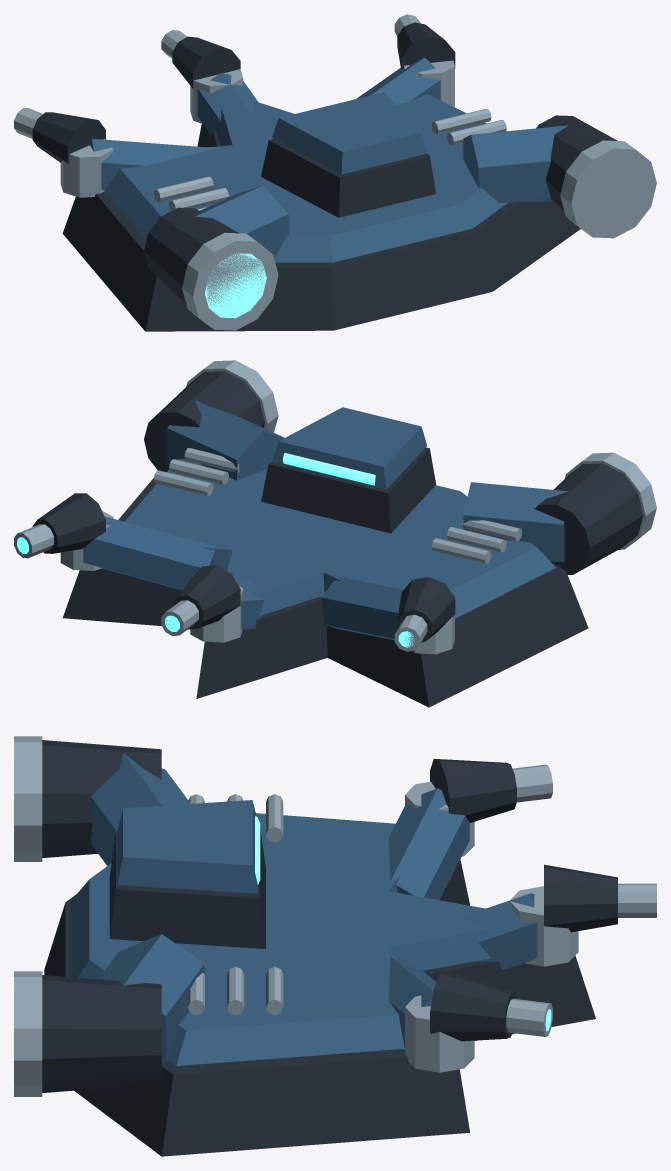
The model's file is c4_compositeEnemy.glb.
3 views of the same model, one above another, from view 1: azimuth 30°, elevation 25°; view 2: azimuth 150°, elevation 25°; view 3: azimuth 270°, elevation 25° (orthographic). The views are drawn at different scales.
Visible parts, largest first — view 1: compositeEnemy / Chassis, compositeEnemy / Armor, compositeEnemy / Titanium, compositeEnemy / Energy; view 2: compositeEnemy / Armor, compositeEnemy / Chassis, compositeEnemy / Titanium, compositeEnemy / Energy; view 3: compositeEnemy / Armor, compositeEnemy / Chassis, compositeEnemy / Titanium.
Part boxes in pixels (bbox=[...]): compositeEnemy / Chassis: bbox=[32, 22, 617, 331]; compositeEnemy / Armor: bbox=[90, 57, 568, 262]; compositeEnemy / Titanium: bbox=[14, 14, 656, 330]; compositeEnemy / Energy: bbox=[205, 253, 266, 318]; compositeEnemy / Armor: bbox=[83, 400, 568, 640]; compositeEnemy / Chassis: bbox=[32, 371, 643, 707]; compositeEnemy / Titanium: bbox=[14, 360, 656, 654]; compositeEnemy / Energy: bbox=[17, 453, 414, 647]; compositeEnemy / Armor: bbox=[70, 753, 537, 1065]; compositeEnemy / Chassis: bbox=[42, 740, 617, 1156]; compositeEnemy / Titanium: bbox=[14, 736, 656, 1096].
Bounding box in the file's own units: 1.57 × 0.473 × 1.48.
